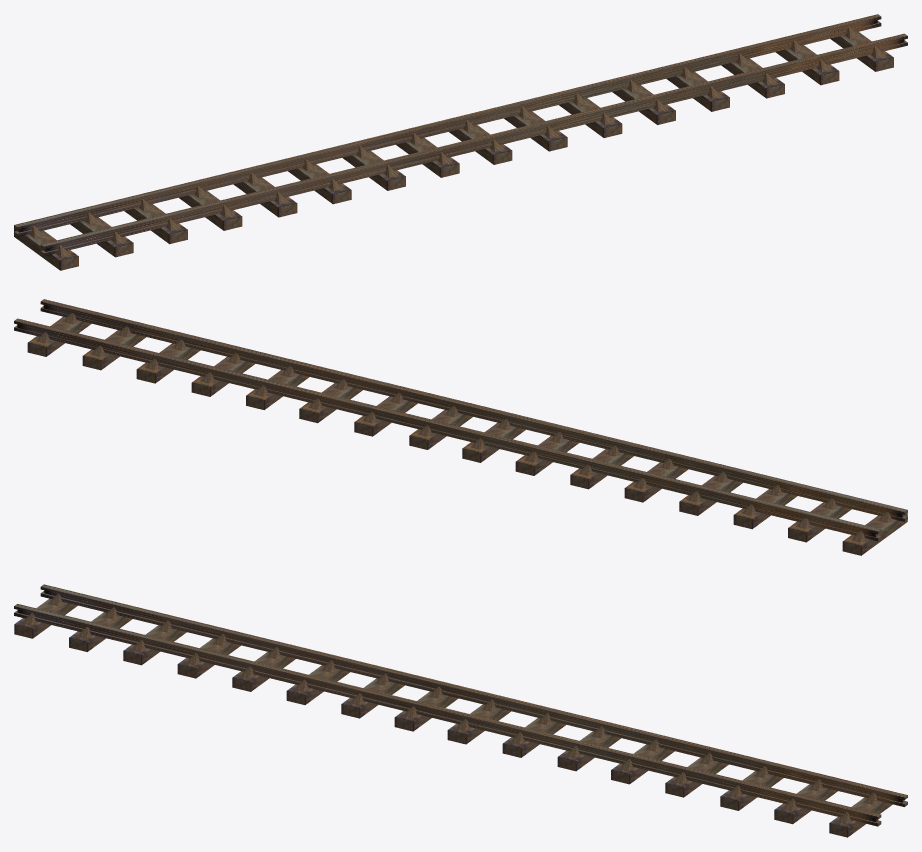
Rendered from ViasTren.obj.
3 views of the same model, one above another, from view 1: azimuth 30°, elevation 25°; view 2: azimuth 150°, elevation 25°; view 3: azimuth 330°, elevation 25° (orthographic).
Visible parts, largest first — view 1: Pirámide_9_Material_1, Pirámide_9_Material_2, Pirámide_9_Material.001; view 2: Pirámide_9_Material_1, Pirámide_9_Material_2, Pirámide_9_Material.001; view 3: Pirámide_9_Material_1, Pirámide_9_Material_2, Pirámide_9_Material.001.
Part boxes in pixels (x1=…): Pirámide_9_Material_1: x1=14, y1=14, x2=907, y2=256; Pirámide_9_Material_2: x1=14, y1=31, x2=893, y2=270; Pirámide_9_Material.001: x1=17, y1=20, x2=904, y2=257; Pirámide_9_Material_1: x1=14, y1=299, x2=907, y2=541; Pirámide_9_Material_2: x1=27, y1=316, x2=907, y2=555; Pirámide_9_Material.001: x1=17, y1=305, x2=904, y2=542; Pirámide_9_Material_1: x1=14, y1=584, x2=907, y2=826; Pirámide_9_Material_2: x1=14, y1=598, x2=892, y2=837; Pirámide_9_Material.001: x1=17, y1=590, x2=904, y2=824.
Bounding box in the file's own units: 63.69 × 1.41 × 5.93.
